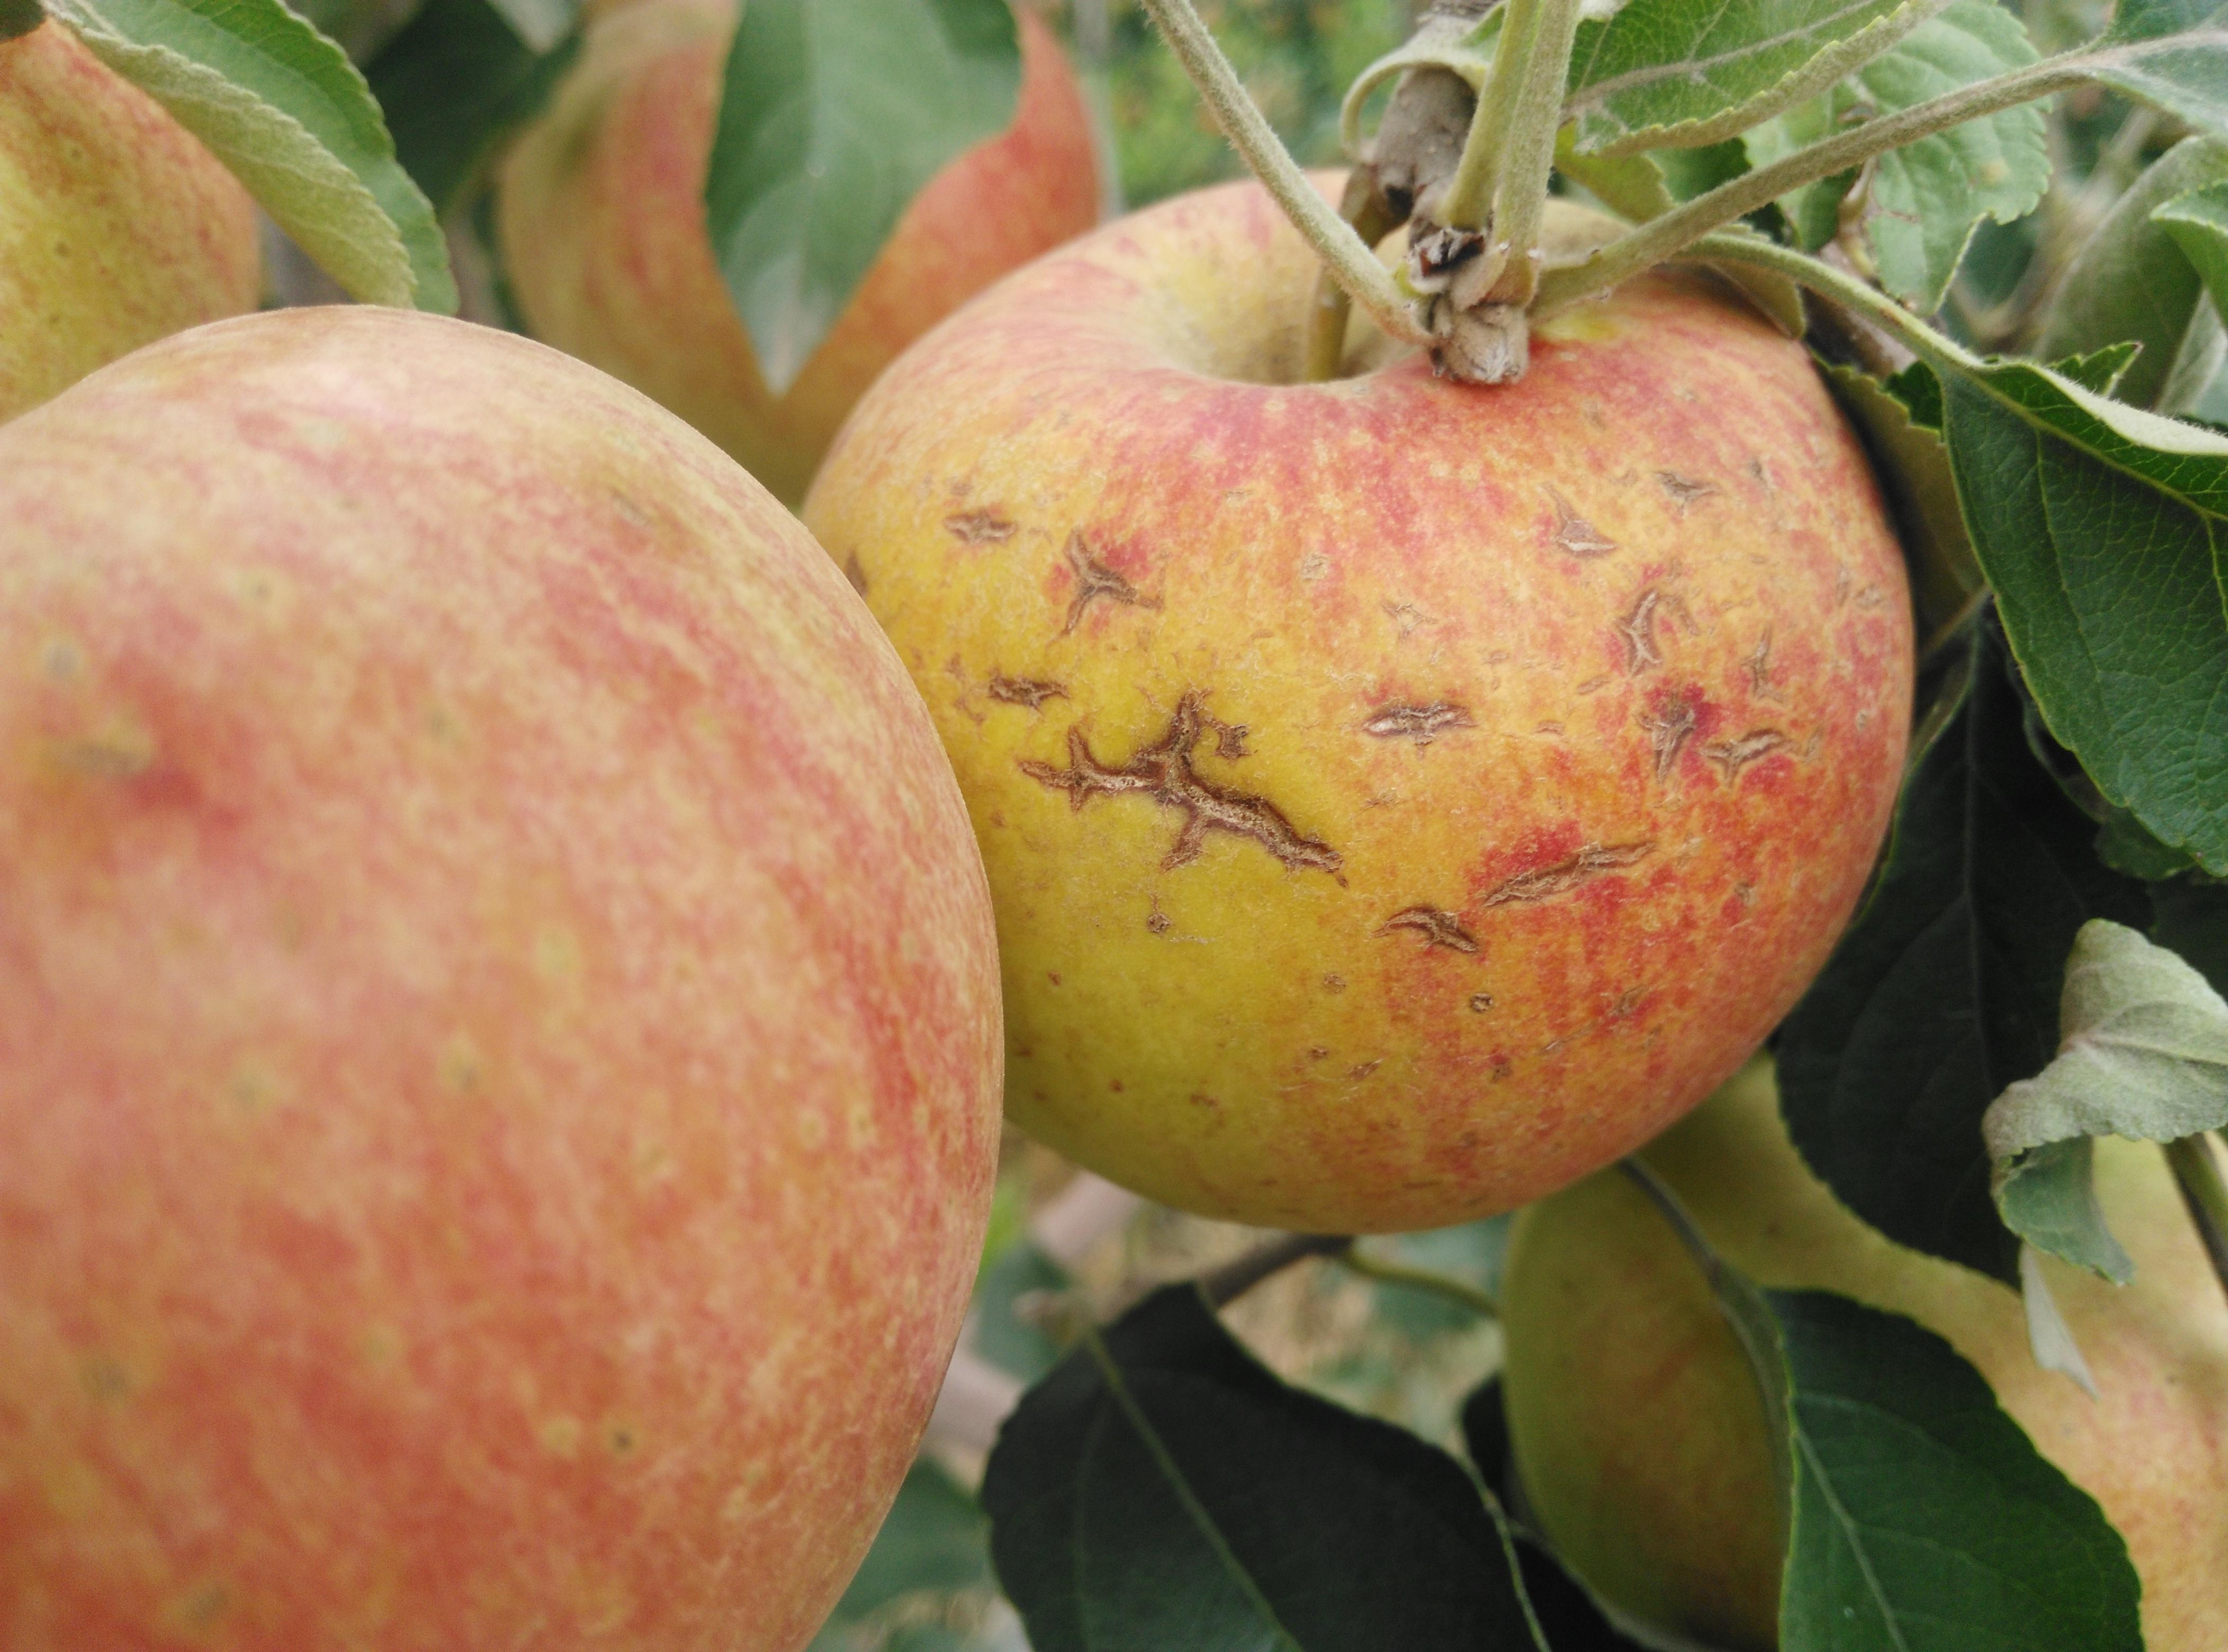apple: (5, 285, 1022, 1638), (812, 134, 1900, 1251), (3, 2, 272, 436)
